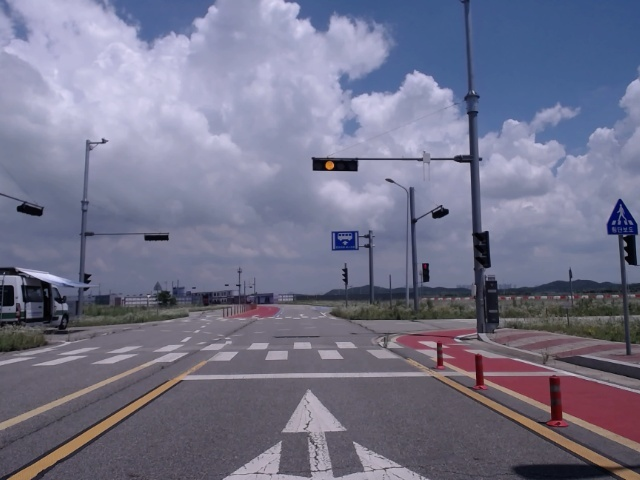orange_4: (313, 158, 360, 170)
